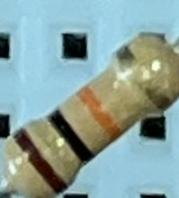Black: (45, 106, 98, 166)
Brown: (10, 128, 71, 196)
Orange: (73, 80, 128, 143)
Side-Silver: (107, 44, 177, 109)
